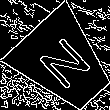N_SE: (32, 31, 96, 95)
